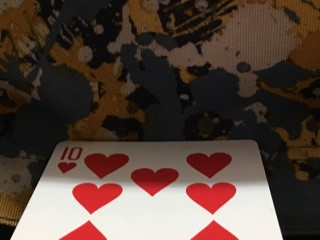TenOfHearts: (8, 141, 284, 240)
